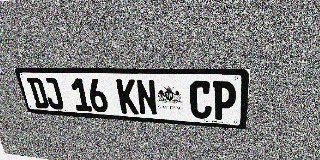1: (69, 78, 92, 112)
6: (86, 78, 109, 113)
C: (190, 80, 212, 119)
D: (26, 77, 50, 109)
J: (41, 78, 65, 110)
K: (116, 79, 139, 115)
N: (135, 79, 158, 116)
P: (212, 81, 237, 121)
